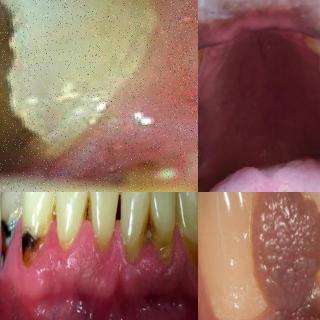Gum Swelling: (67, 221, 132, 292), (132, 227, 198, 296), (24, 223, 65, 281), (3, 220, 23, 282)
cavities: (0, 0, 84, 171), (20, 224, 44, 278), (0, 209, 18, 272)
plaque: (2, 192, 24, 234), (47, 192, 62, 232)
stains: (79, 192, 95, 234), (198, 48, 207, 79), (198, 68, 202, 100), (316, 51, 320, 79)
